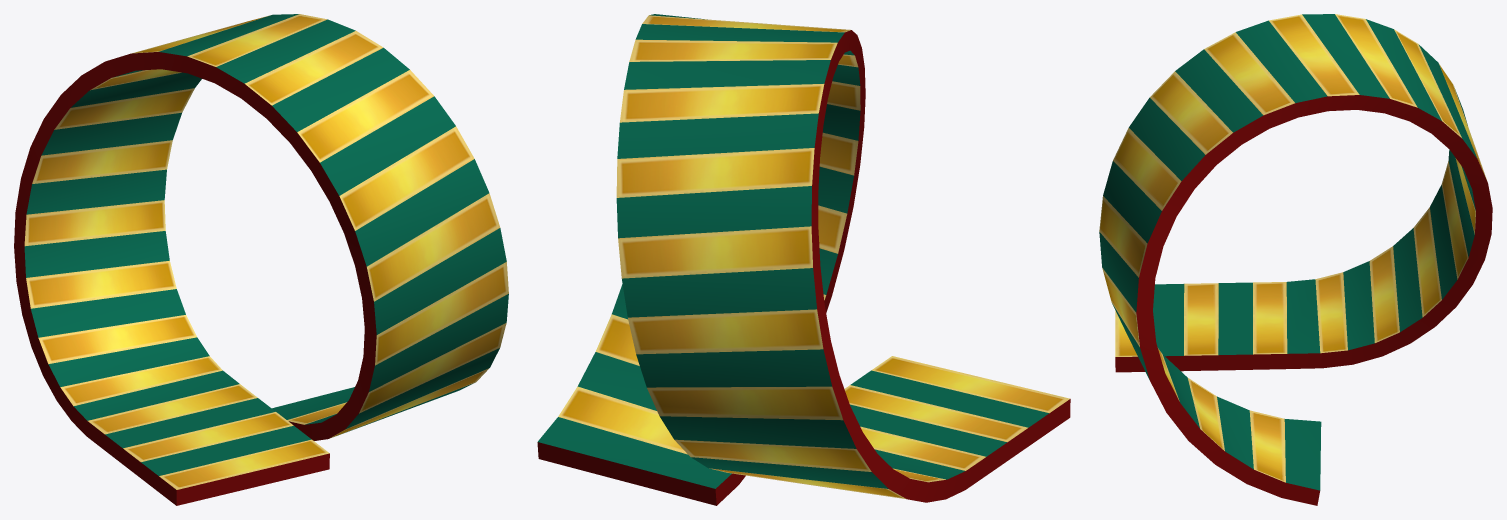
Rendered from egypt_loop.gltf.
The picture shows the model from 3 angles, left to right: view 1: azimuth 30°, elevation 25°; view 2: azimuth 150°, elevation 25°; view 3: azimuth 270°, elevation 25°; orthographic projection. The views are drawn at different scales.
Parts seen in each view (by area): view 1: egypt_loop_glb; view 2: egypt_loop_glb; view 3: egypt_loop_glb.
Boxes of the visible parts, x1,y1,x2,y2 form: egypt_loop_glb: (14,14,508,505); egypt_loop_glb: (537,14,1070,505); egypt_loop_glb: (1099,14,1492,505).
Size of what is drawn, in the model's own units: 4.87 by 5.27 by 4.93.
Materials: 1 (1 with a texture image).
